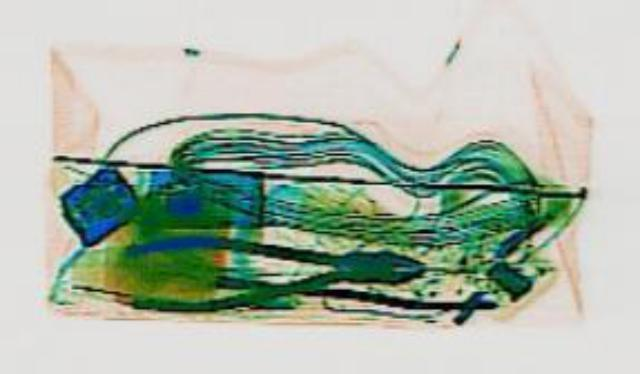Pliers: (120, 229, 422, 308)
